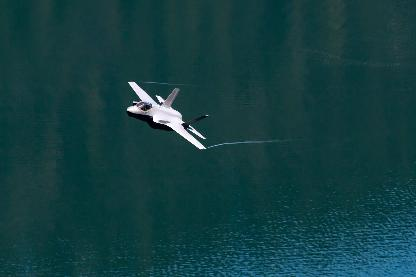F22: (126, 81, 209, 148)
